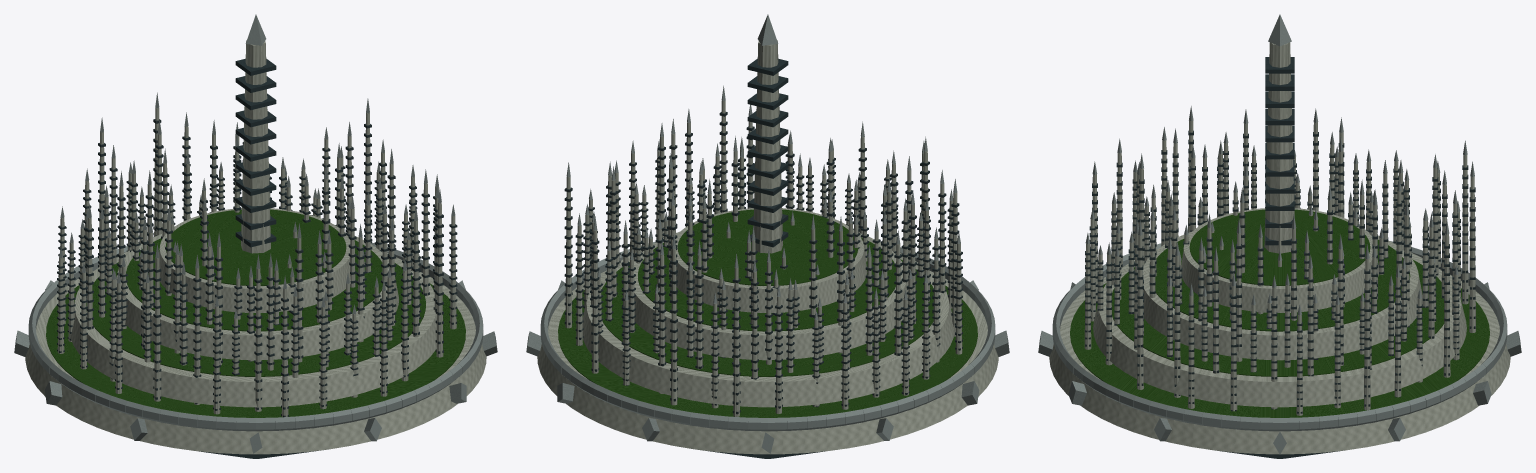
The model's file is continent_crown_01.fbx.
3 renders of one model, left to right at view 1: azimuth 30°, elevation 25°; view 2: azimuth 150°, elevation 25°; view 3: azimuth 270°, elevation 25°, orthographic.
Visible parts, largest first — view 1: continent_crown_01_LOD0; view 2: continent_crown_01_LOD0; view 3: continent_crown_01_LOD0.
Boxes of the visible parts, box(x1,y1,x2,y2) form: continent_crown_01_LOD0: box(14, 14, 497, 458); continent_crown_01_LOD0: box(526, 14, 1009, 458); continent_crown_01_LOD0: box(1038, 14, 1521, 458).
Size of what is drawn, in the model's own units: 1 by 1 by 1.
